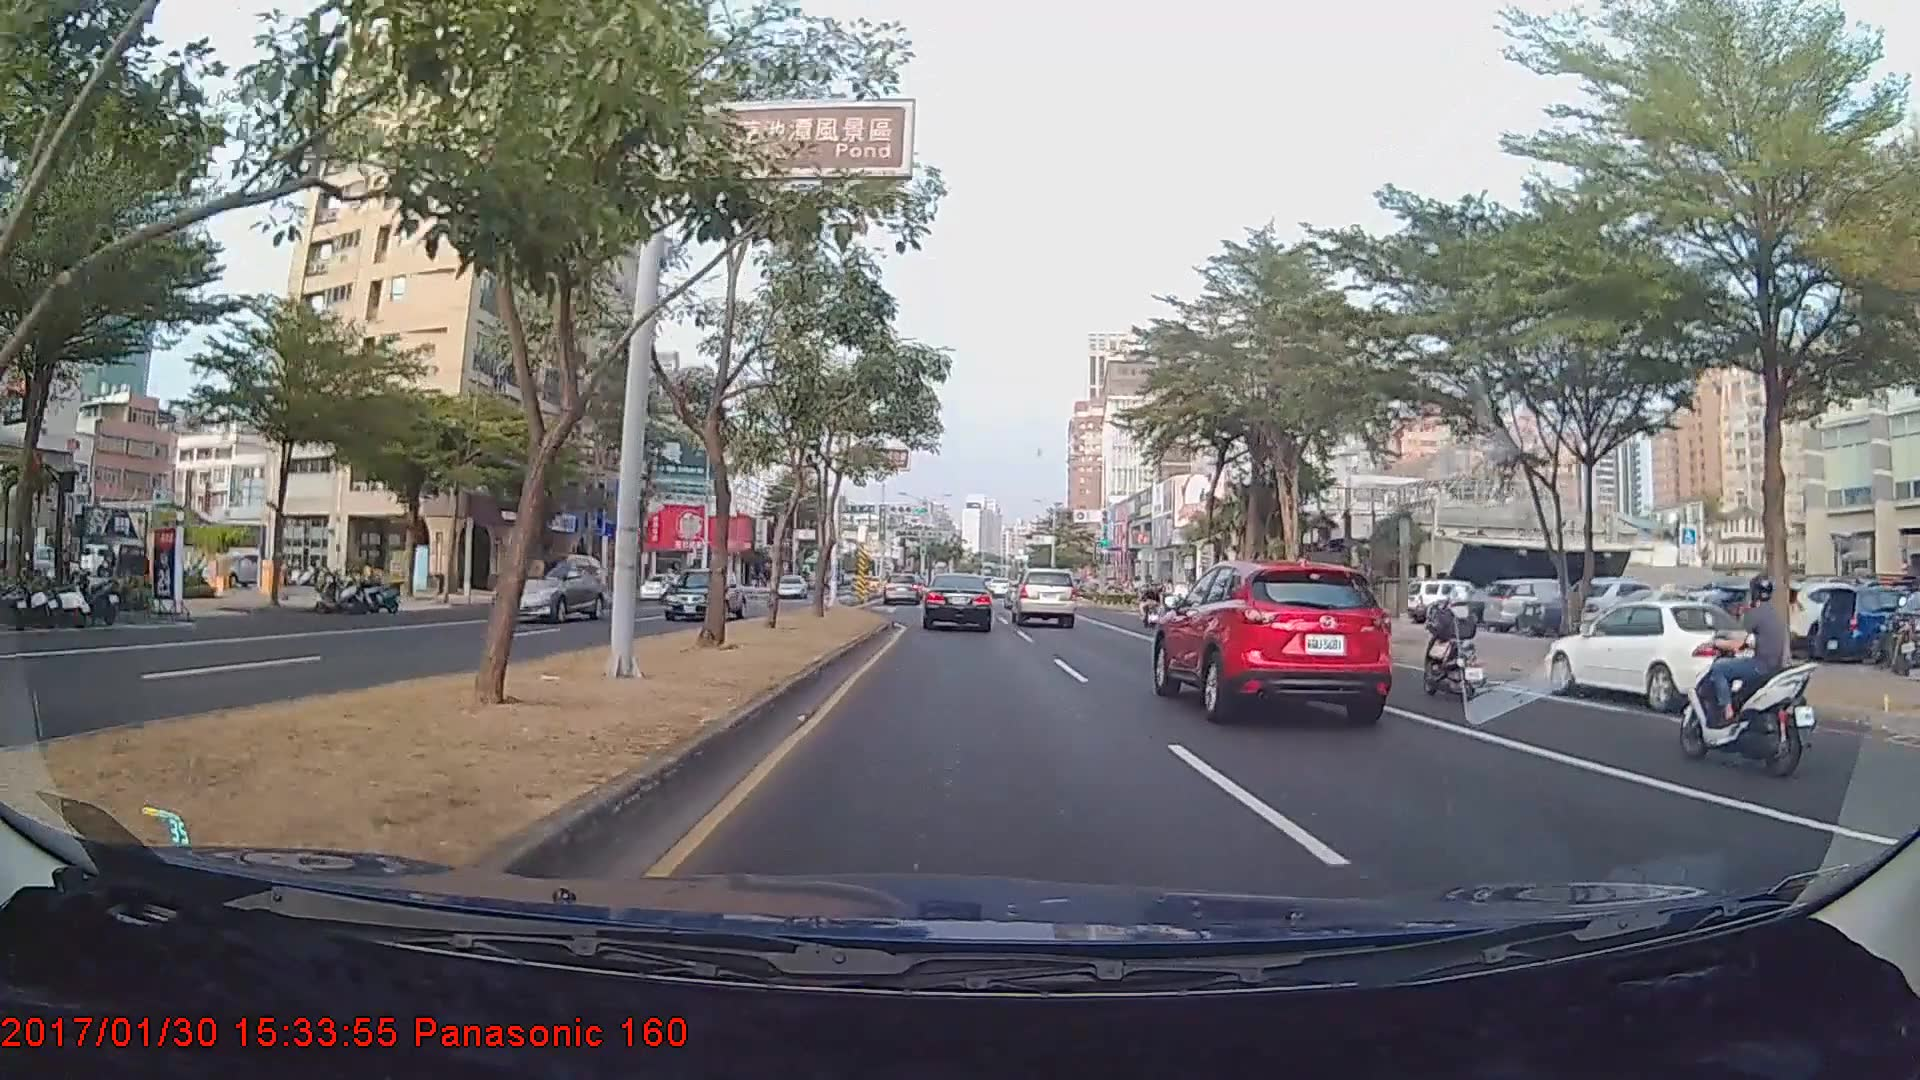rider: (1672, 555, 1826, 775), (1409, 579, 1494, 703)
vehicle: (1150, 557, 1393, 728), (1543, 597, 1782, 710), (489, 551, 606, 624), (1480, 575, 1589, 634), (661, 566, 746, 621), (921, 572, 994, 632), (1010, 567, 1077, 628), (882, 571, 923, 606), (638, 572, 688, 601), (775, 574, 805, 600)
